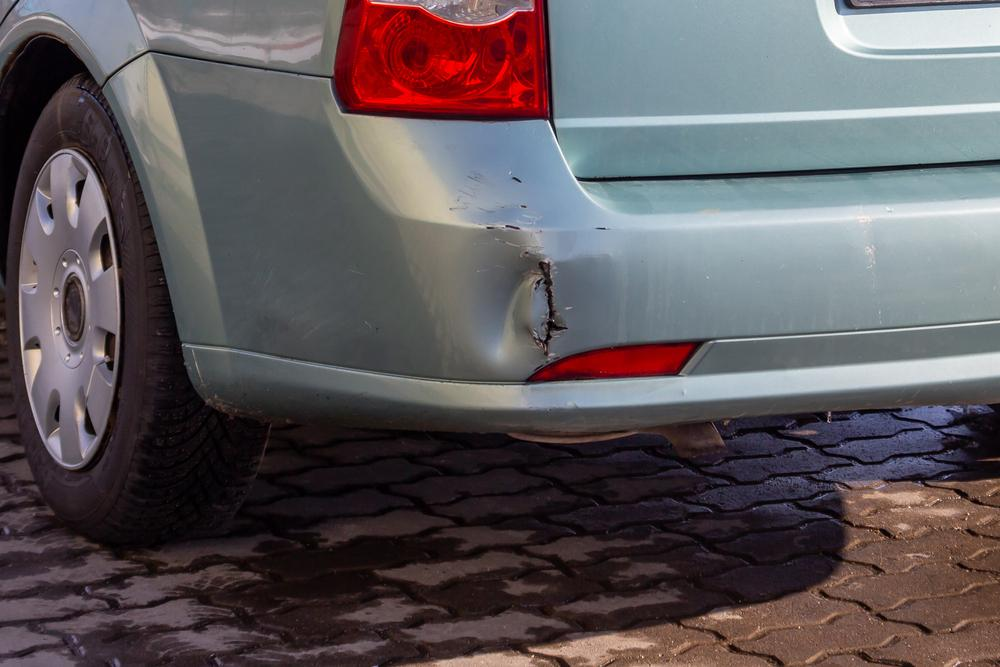crack: (532, 261, 569, 359)
dent: (458, 226, 544, 357)
scratch: (445, 160, 535, 229)
